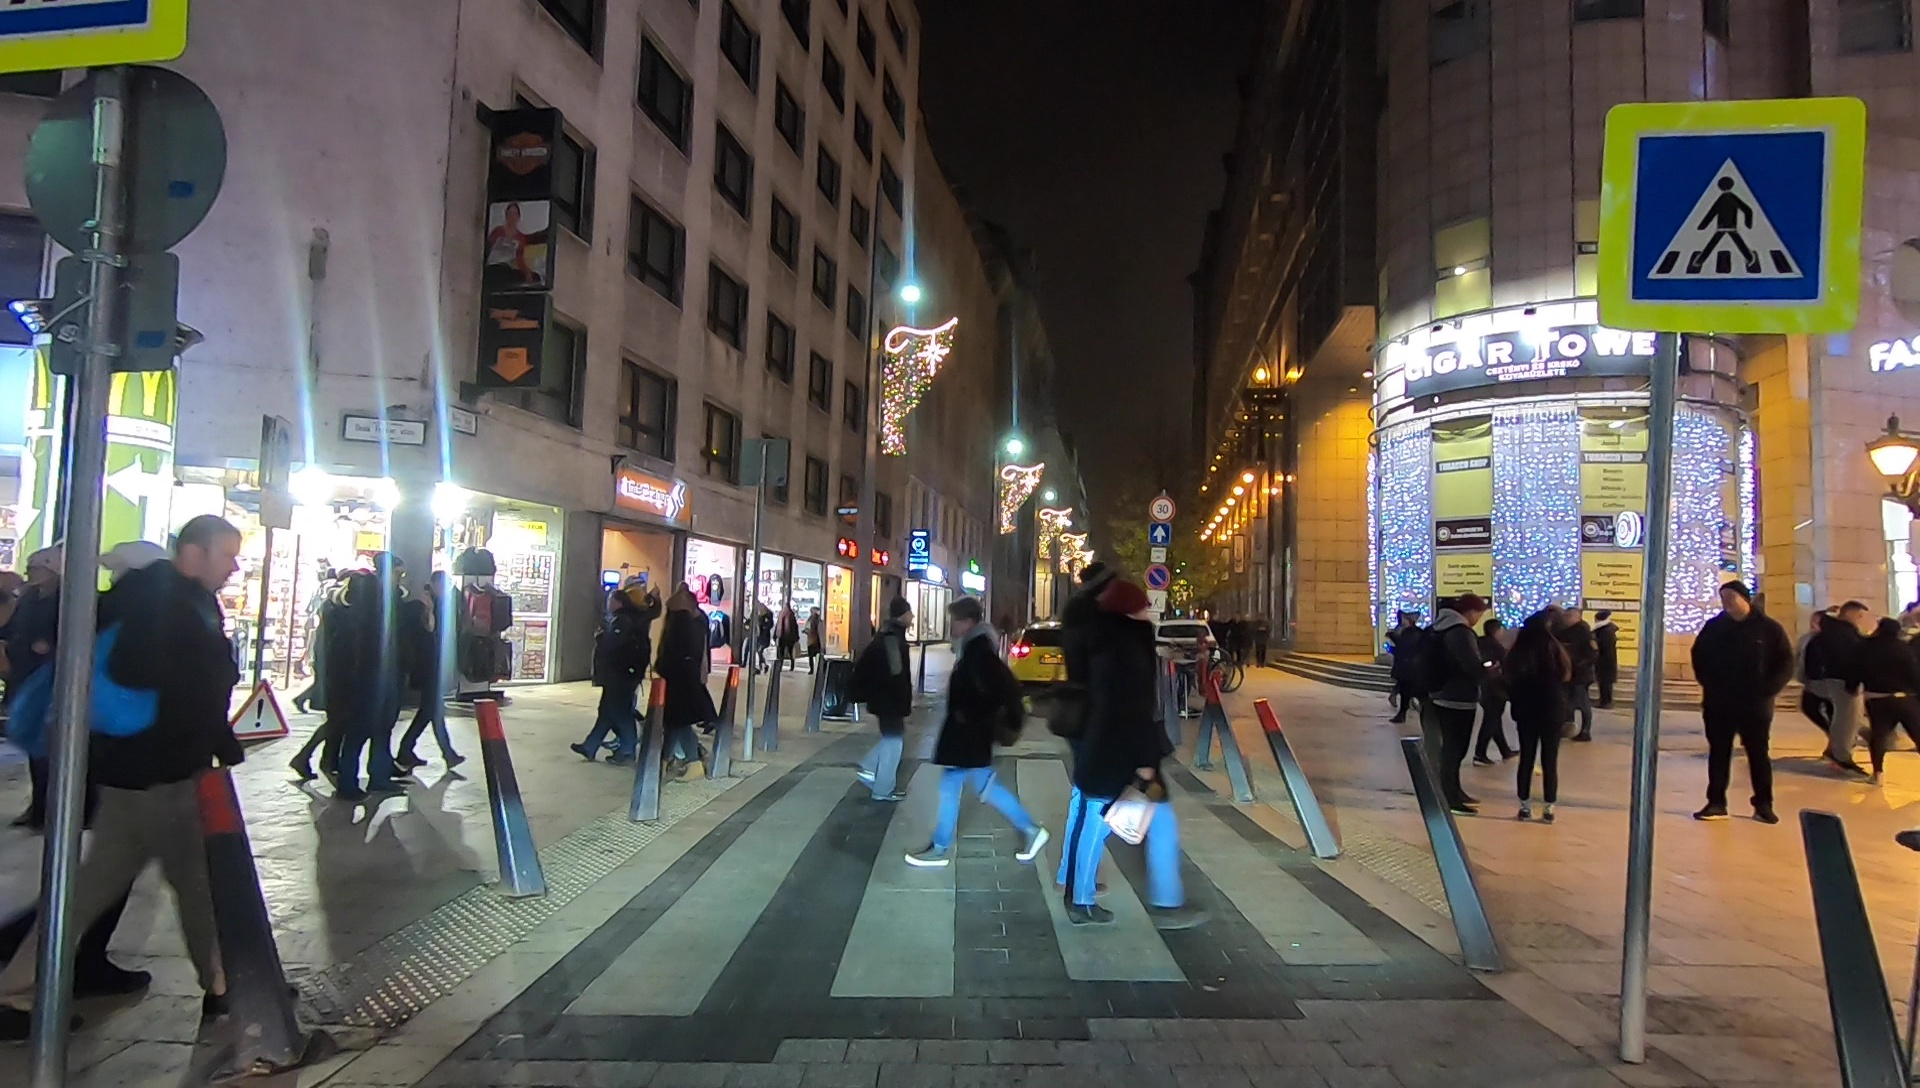person: (97, 513, 278, 1056), (1071, 582, 1212, 932), (915, 597, 1049, 880), (1060, 558, 1143, 921), (4, 537, 99, 841), (1693, 582, 1786, 826), (328, 567, 408, 804), (404, 567, 471, 778), (299, 571, 358, 789), (1426, 587, 1478, 811), (576, 586, 641, 760), (1510, 611, 1560, 821), (1808, 602, 1865, 778), (660, 589, 712, 780), (864, 595, 910, 806), (1871, 595, 1920, 761), (621, 573, 662, 758), (1478, 617, 1515, 773), (1389, 615, 1425, 726), (1593, 610, 1621, 713)
